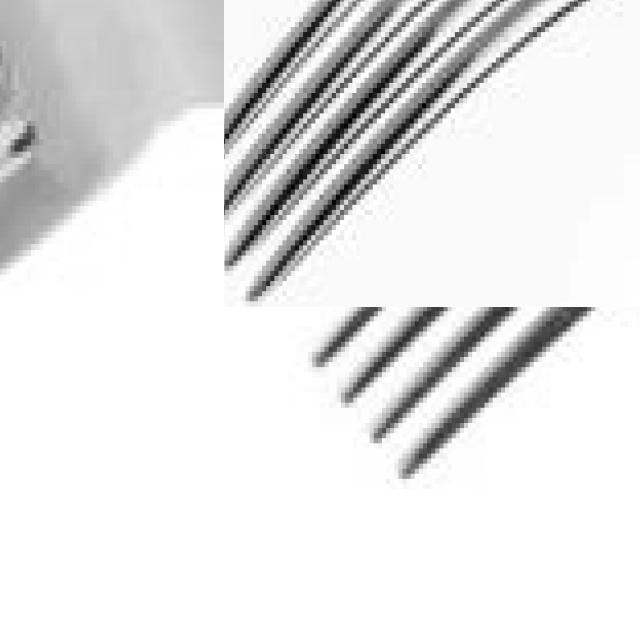forks: (224, 0, 640, 307), (296, 307, 640, 515), (0, 0, 224, 307)
